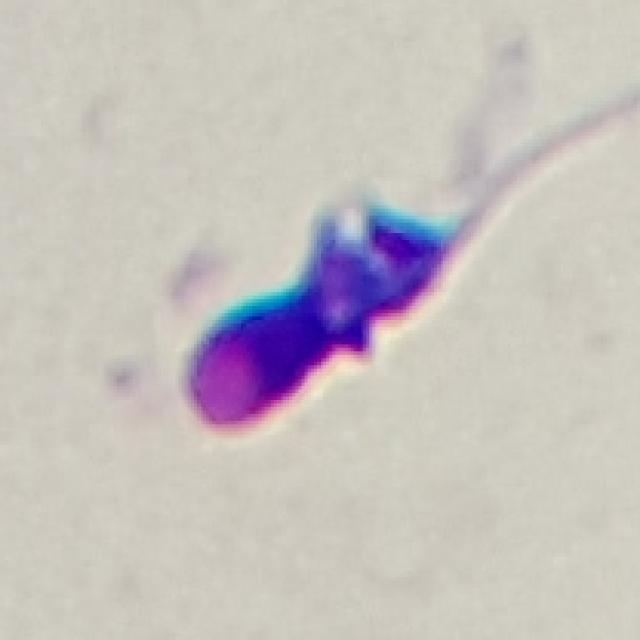abnormal sperm: (184, 132, 566, 436)
